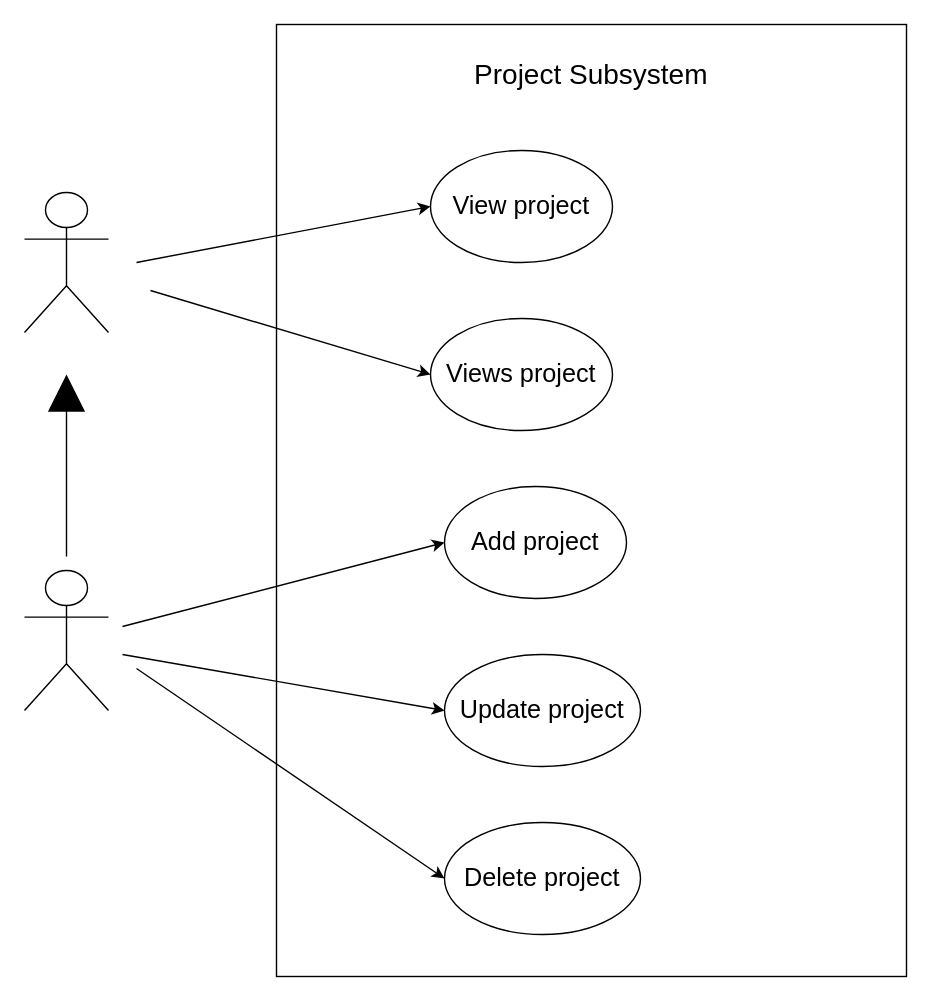
Image size: 931x1001. Some labels were removed from this diagram. The shapes that lost their labels are listed below. From the top down, each one's centre as x and y in pixels, then its label:
At point (65, 261): "User".
At point (65, 639): "Owner".
